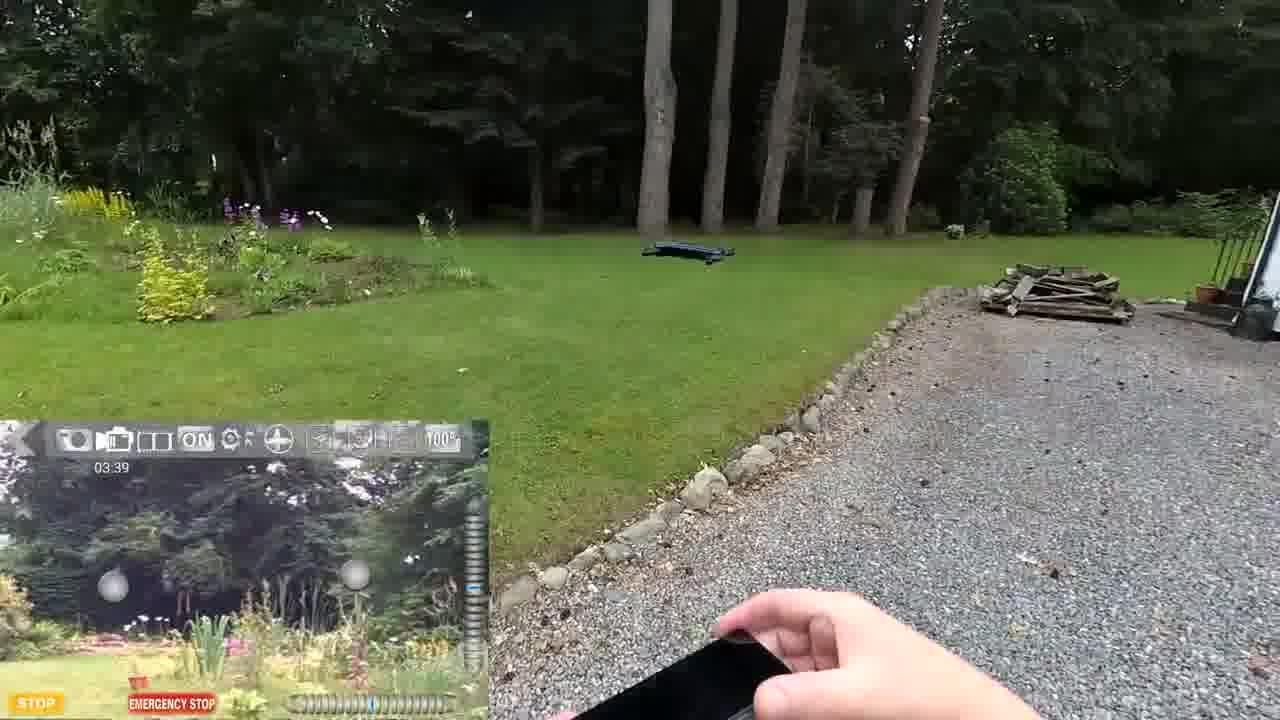drone: (630, 227, 748, 282)
